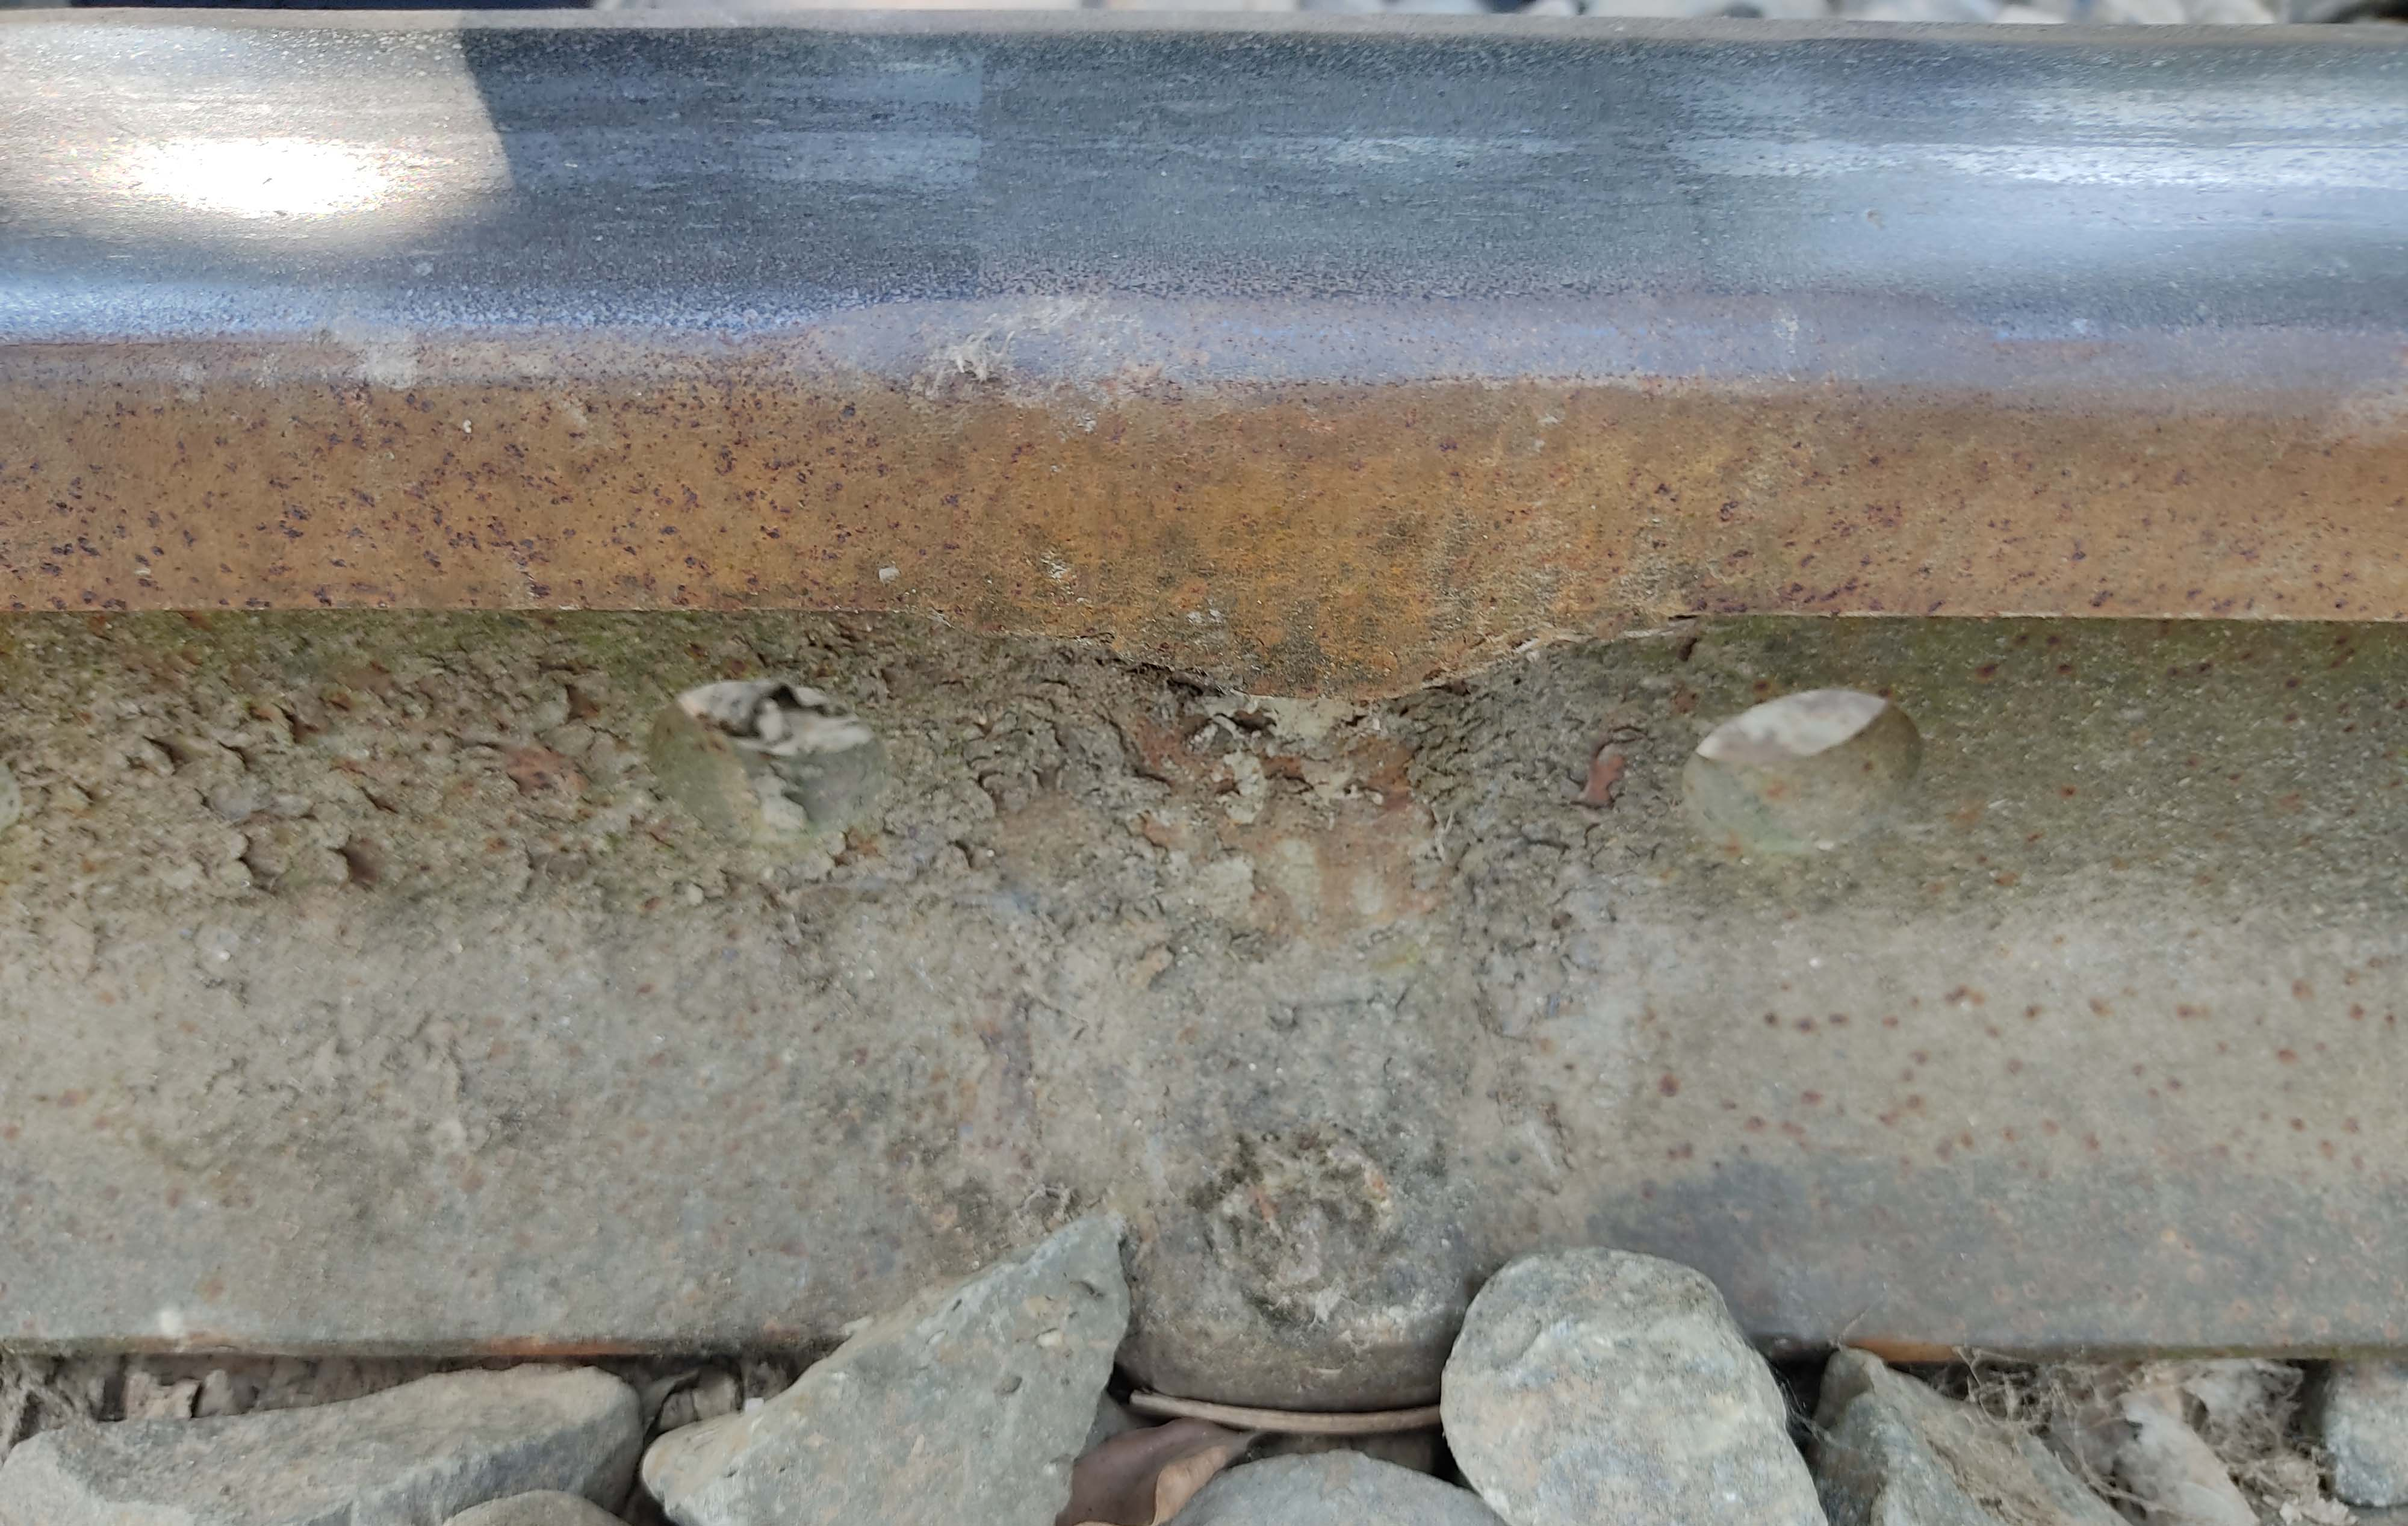error1: (577, 630, 962, 986), (1641, 654, 1952, 952)
